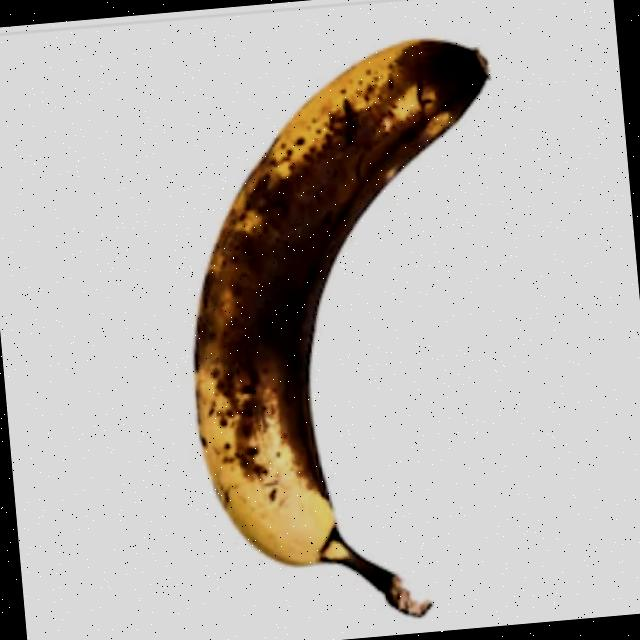Rotten: (147, 10, 545, 640)
